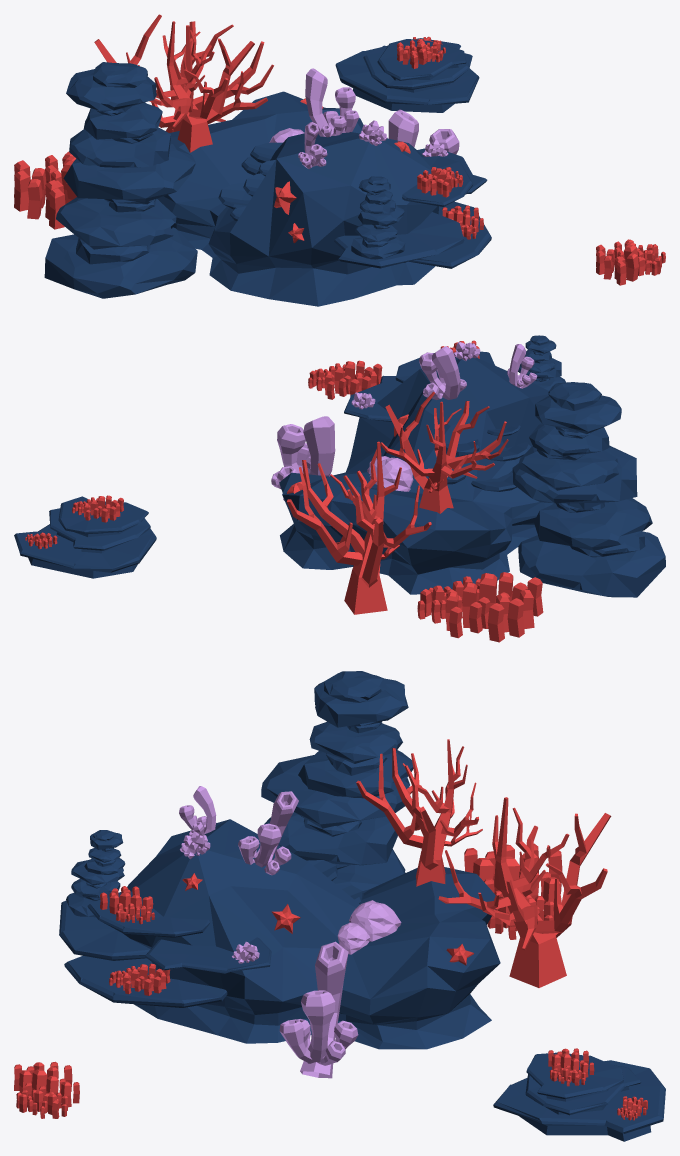
File: environmentRotspartijV3.fbx
The picture shows the model from 3 angles, top to bottom: view 1: azimuth 30°, elevation 25°; view 2: azimuth 150°, elevation 25°; view 3: azimuth 270°, elevation 25°; orthographic projection. The views are drawn at different scales.
Parts seen in each view (by area): view 1: pCube431, pCube447, pCube448, pCube452, pCube449, pCube446, pCube450, pCube438, polySurface68, pCube451, pCube454, pCube453 (+10 smaller); view 2: pCube431, pCube447, pCube449, pCube450, pCube448, pCube452, polySurface67, pCube451, pCube454, polySurface68, pCube453, pCube446 (+6 smaller); view 3: pCube431, pCube447, pCube449, pCube448, polySurface67, pCube452, pCube439, pCube450, pCube446, pCube438, pCube451, pCube441 (+10 smaller).
Boxes of the visible parts, <box> form: pCube431: <box>157,91,438,306</box>; pCube447: <box>44,62,197,298</box>; pCube448: <box>126,21,254,152</box>; pCube452: <box>335,38,479,112</box>; pCube449: <box>94,14,273,132</box>; pCube446: <box>351,176,405,259</box>; pCube450: <box>14,151,76,229</box>; pCube438: <box>334,212,464,268</box>; polySurface68: <box>305,68,359,137</box>; pCube451: <box>596,239,665,285</box>; pCube454: <box>377,39,466,80</box>; pCube453: <box>363,45,472,92</box>; pCube431: <box>279,357,553,594</box>; pCube447: <box>512,382,665,597</box>; pCube449: <box>287,441,431,614</box>; pCube450: <box>417,572,543,642</box>; pCube448: <box>380,391,508,513</box>; pCube452: <box>14,524,156,578</box>; polySurface67: <box>271,416,335,500</box>; pCube451: <box>308,360,382,399</box>; pCube454: <box>58,496,148,536</box>; polySurface68: <box>419,346,466,399</box>; pCube453: <box>49,508,150,553</box>; pCube446: <box>518,335,565,390</box>; pCube431: <box>123,819,500,1049</box>; pCube447: <box>261,671,413,890</box>; pCube449: <box>438,797,611,987</box>; pCube448: <box>356,739,482,886</box>; polySurface67: <box>279,941,358,1078</box>; pCube452: <box>493,1060,665,1141</box>; pCube439: <box>64,956,227,1007</box>; pCube450: <box>464,843,566,939</box>; pCube446: <box>66,830,125,917</box>; pCube438: <box>59,900,150,960</box>; pCube451: <box>14,1061,79,1118</box>; pCube441: <box>145,937,271,973</box>.
Bounding box in the file's own units: 146 × 55.14 × 138.
